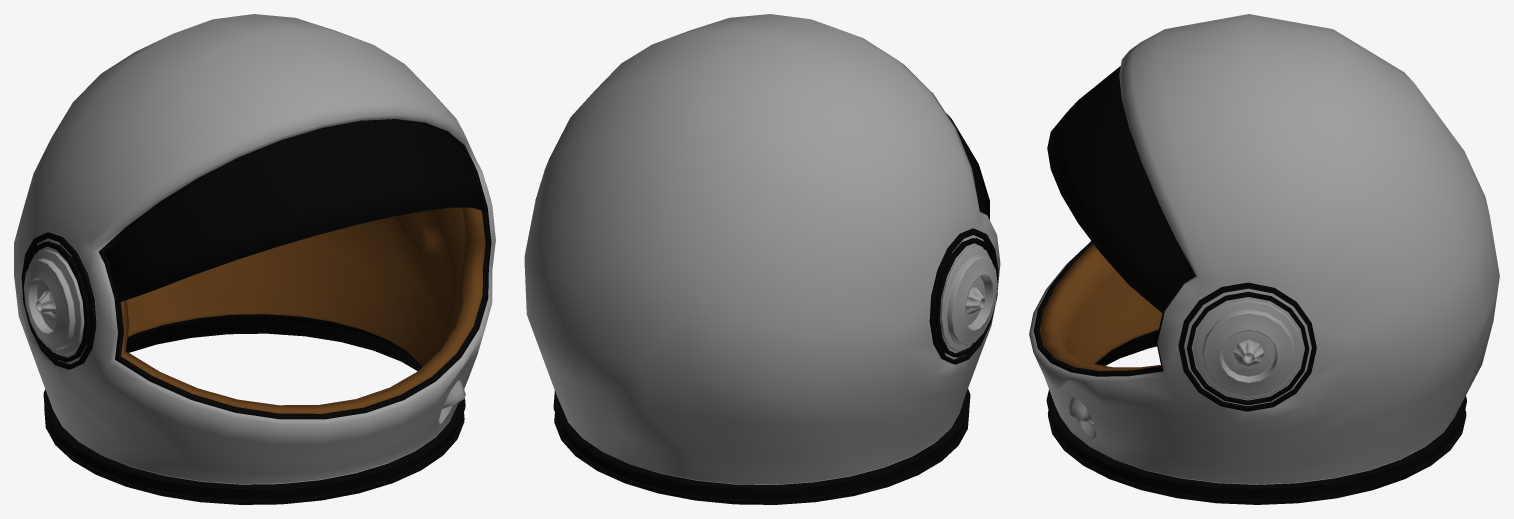
Rendered from AstroHelmet_v0007.fbx.
3 renders of one model, left to right at view 1: azimuth 30°, elevation 25°; view 2: azimuth 150°, elevation 25°; view 3: azimuth 270°, elevation 25°, orthographic.
Visible parts, largest first — view 1: HELMET, Visor; view 2: HELMET, Visor; view 3: HELMET, Visor.
Part boxes in pixels (bbox=[...]): HELMET: bbox=[14, 14, 495, 504]; Visor: bbox=[104, 120, 485, 302]; HELMET: bbox=[524, 14, 1000, 504]; Visor: bbox=[946, 113, 989, 219]; HELMET: bbox=[1029, 14, 1499, 504]; Visor: bbox=[1047, 66, 1192, 312].
Size of the model in its own units: 75.6 by 63.07 by 70.73.
